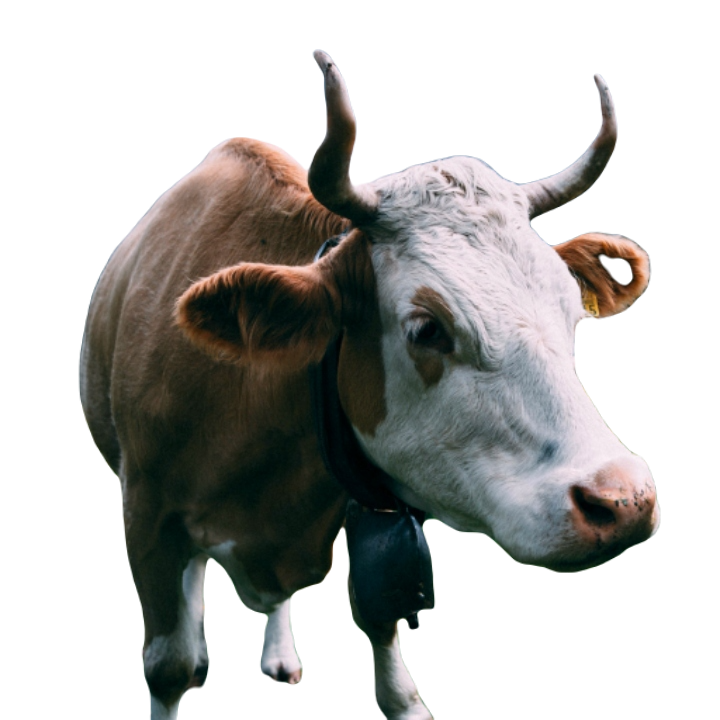Cow: (75, 48, 658, 719)
